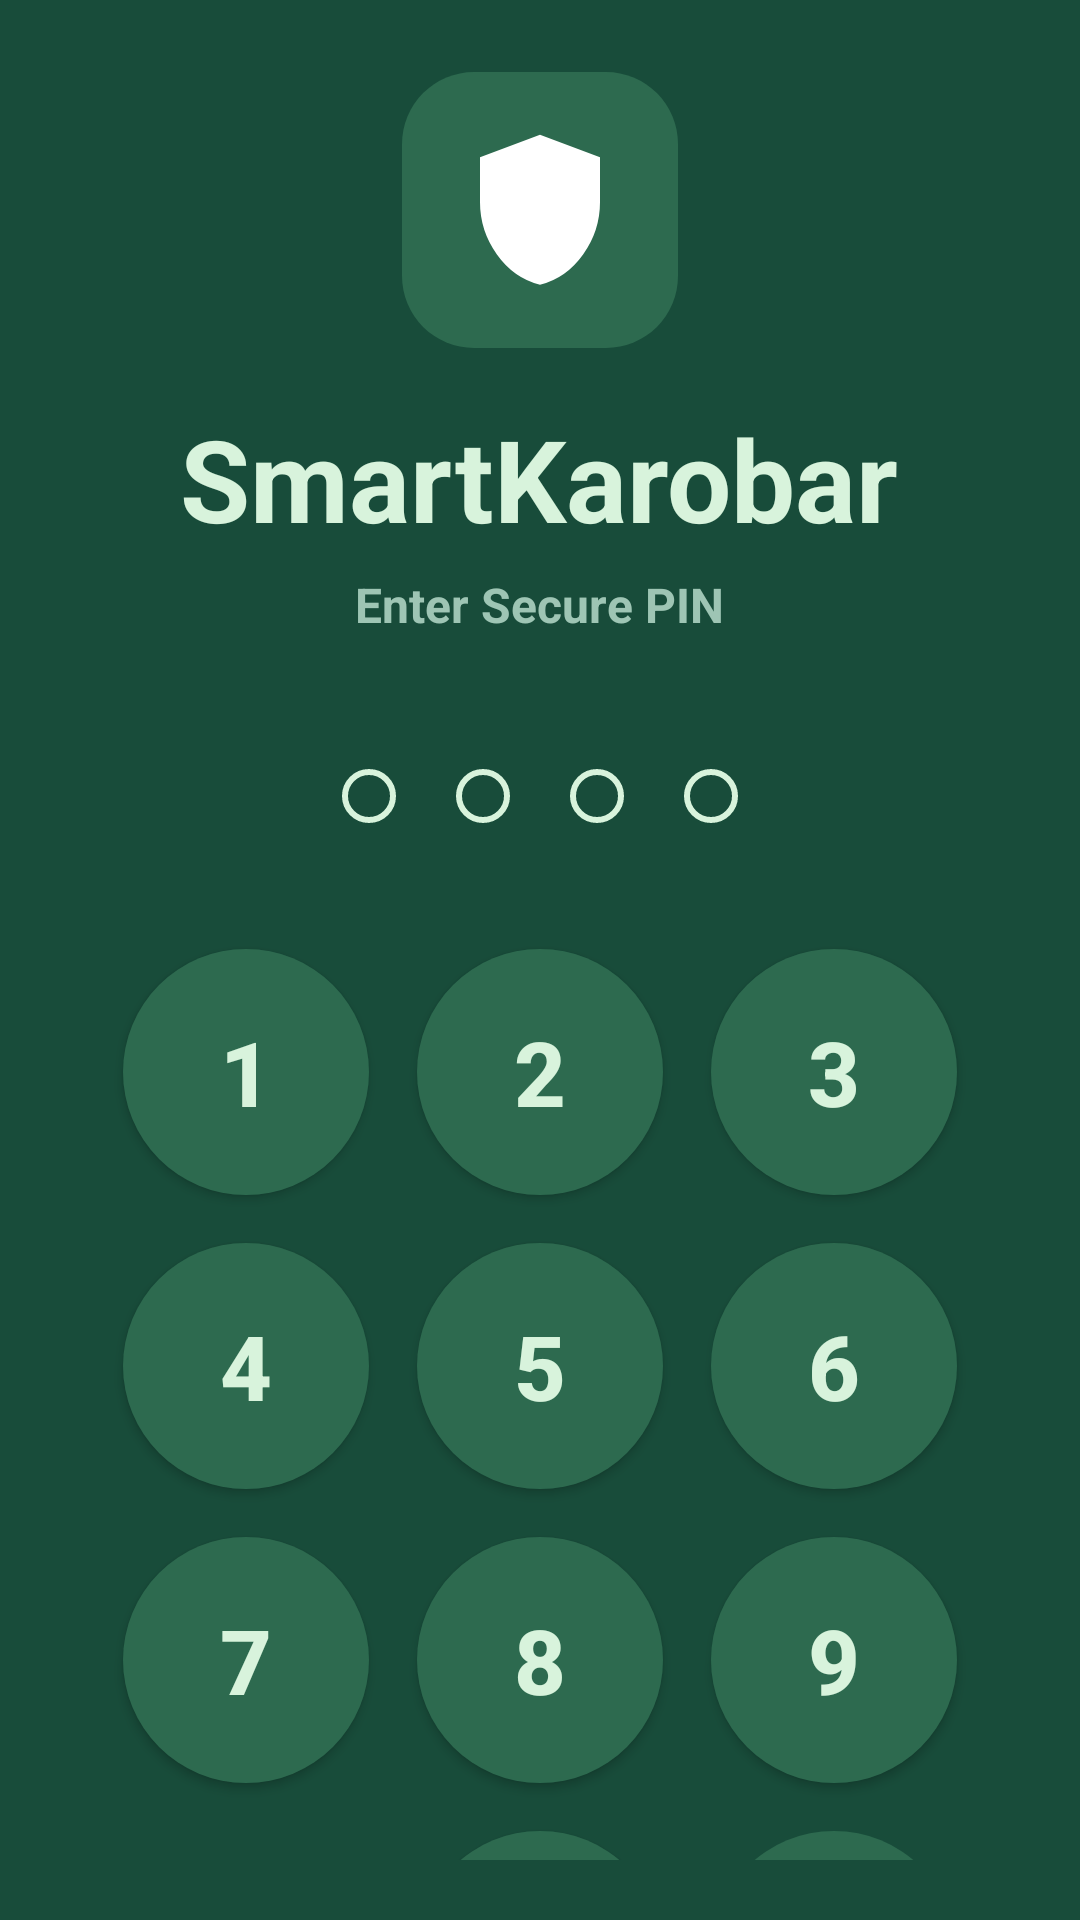

Named icons in this screenshot (1080px×1920px) and their centers, [x,y]:
Shield: [540,210]
